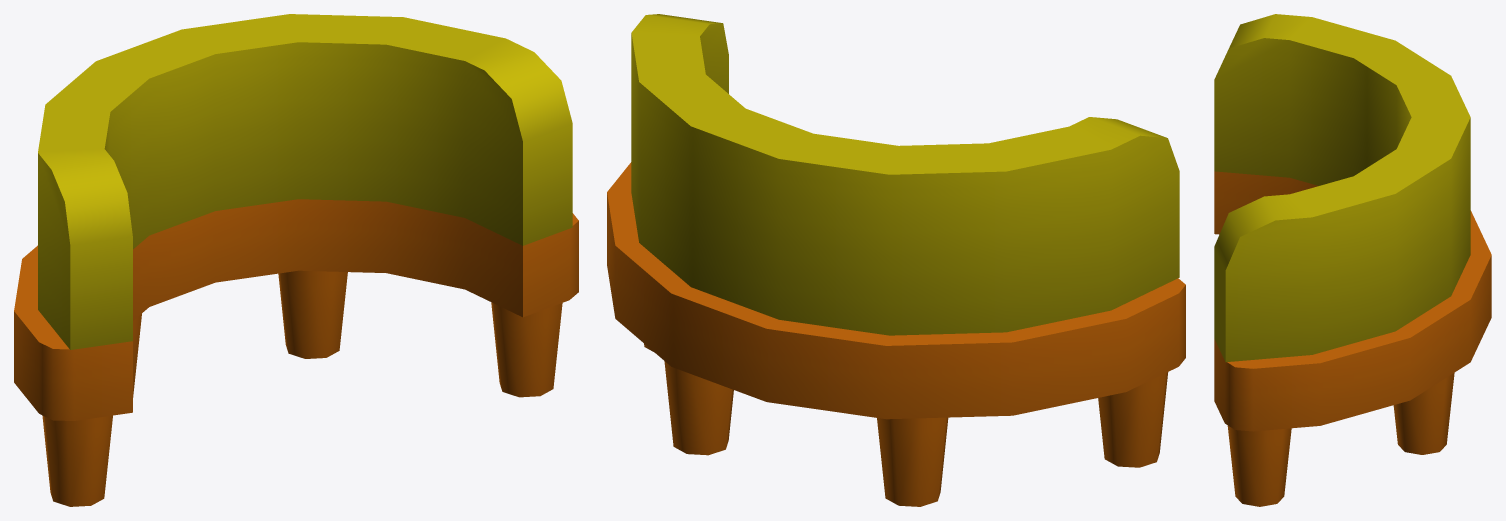
File: Chair_01.fbx
The picture shows the model from 3 angles, left to right: view 1: azimuth 30°, elevation 25°; view 2: azimuth 150°, elevation 25°; view 3: azimuth 270°, elevation 25°; orthographic projection. The views are drawn at different scales.
Parts seen in each view (by area): view 1: Chair_01; view 2: Chair_01; view 3: Chair_01.
Boxes of the visible parts, left/top/right/bottom form: Chair_01: left=14, top=14, right=578, bottom=506; Chair_01: left=607, top=14, right=1185, bottom=506; Chair_01: left=1214, top=14, right=1491, bottom=506.
Size of the model in its own units: 130 by 75.57 by 67.08.
